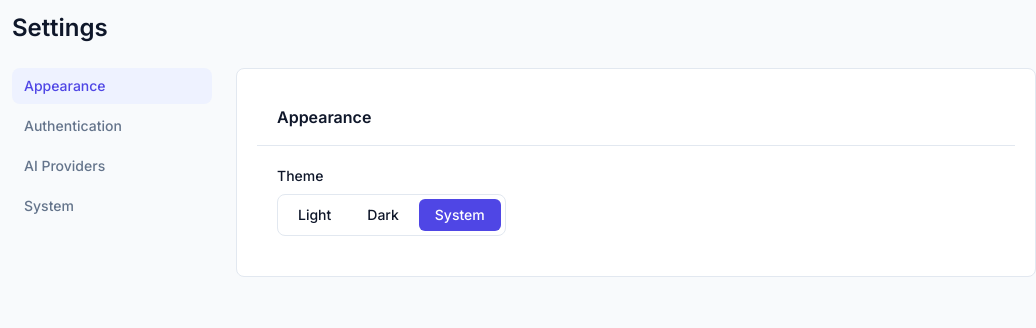
Settings page › sub-nav switches active section — clicking System shows version info
The width and height of the screenshot is (1036, 328).
Expected: the button "Appearance" is shown, x1=12 y1=68 x2=212 y2=104
Expected: the text "Theme" is shown, x1=277 y1=167 x2=324 y2=184
Click System in sub-nav
Click the button "System". click: (112, 206)
box: x1=12 y1=188 x2=212 y2=224
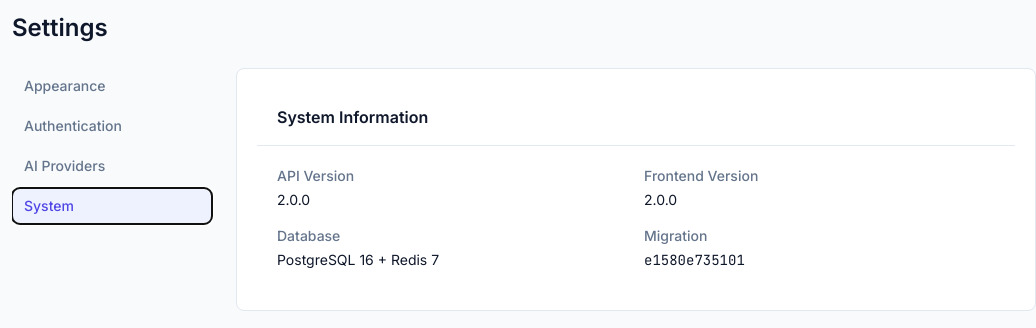
Result: the heading "System Information" is shown at x1=277 y1=105 x2=428 y2=129
Result: the text "2.0.0" is shown 2 times at x1=277 y1=191 x2=310 y2=208; x1=644 y1=191 x2=677 y2=208
Result: the text "e1580e735101" is shown at x1=644 y1=251 x2=745 y2=269
